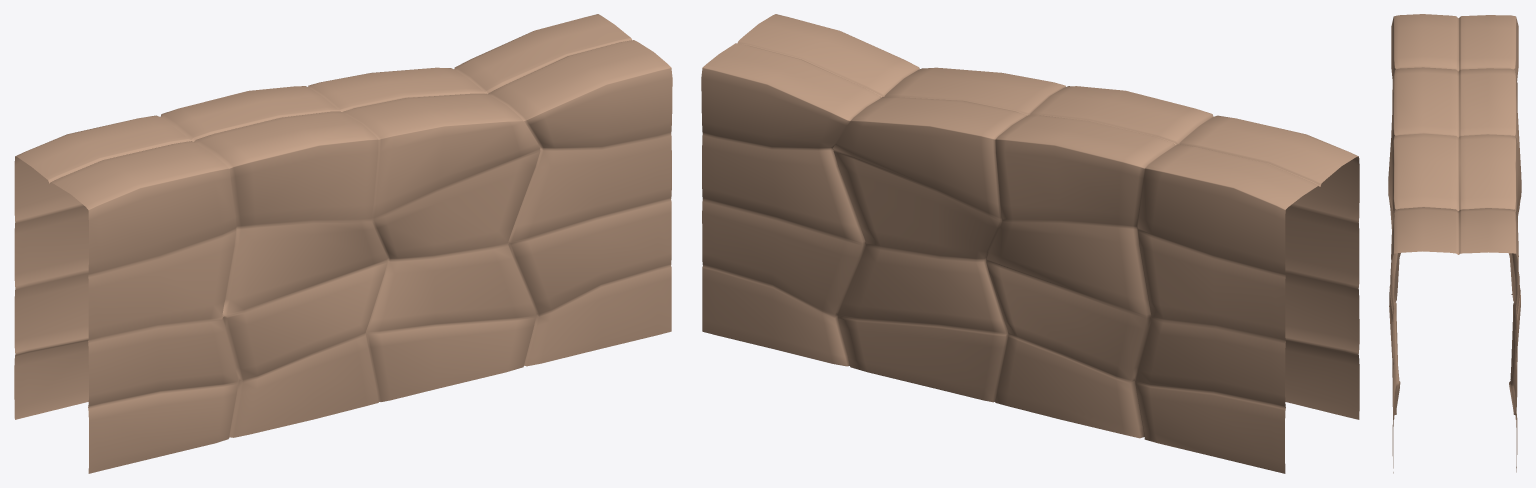
File: Brick_Wall_2_low.FBX
The picture shows the model from 3 angles, left to right: view 1: azimuth 30°, elevation 25°; view 2: azimuth 150°, elevation 25°; view 3: azimuth 270°, elevation 25°; orthographic projection. The views are drawn at different scales.
Parts seen in each view (by area): view 1: Box001; view 2: Box001; view 3: Box001.
Boxes of the visible parts, box(x1,y1,x2,y2) form: Box001: box(14, 14, 672, 473); Box001: box(701, 14, 1359, 473); Box001: box(1388, 14, 1521, 473).
Bounding box in the file's own units: 126 × 57.2 × 29.87.
